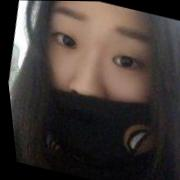WRONG: (13, 1, 180, 170)
